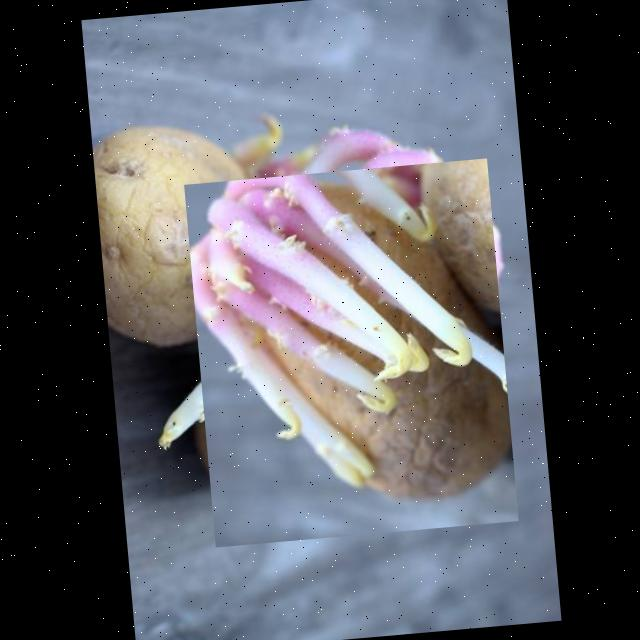Sprouted potato: (182, 158, 518, 547)
